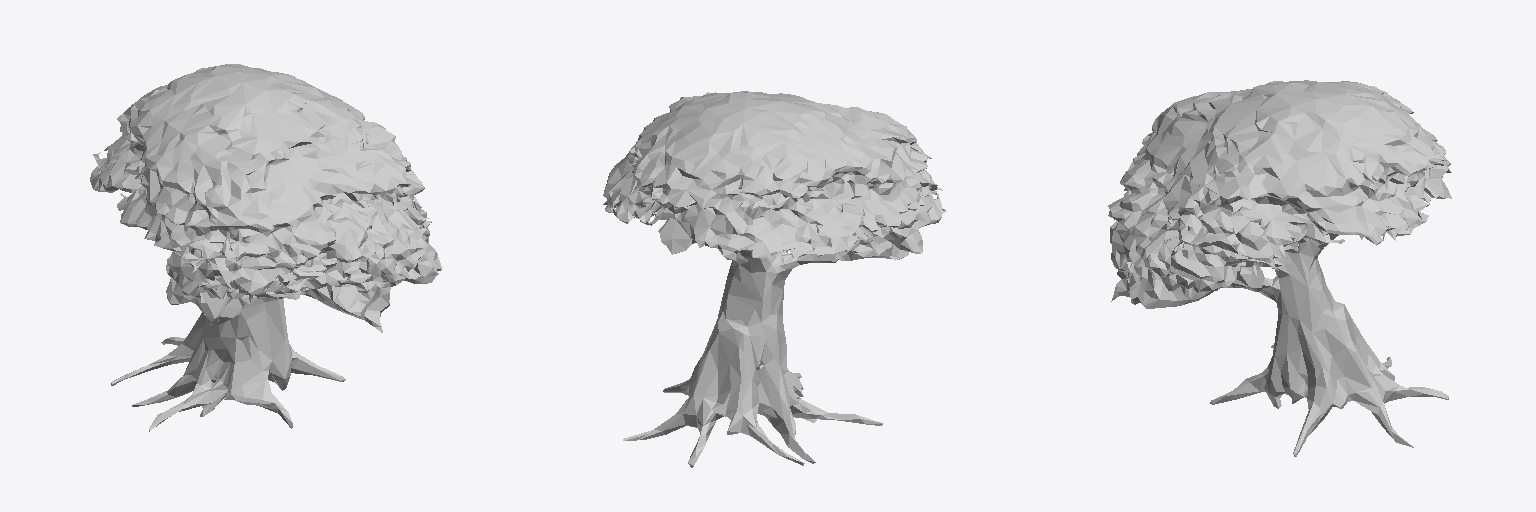
The model's file is fe6535b83ee9_a_large_alien_tree_.obj.
The picture shows the model from 3 angles: view 1: azimuth 30°, elevation 25°; view 2: azimuth 150°, elevation 25°; view 3: azimuth 270°, elevation 25°; orthographic projection.
Visible parts, largest first — view 1: mesh; view 2: mesh; view 3: mesh.
Boxes of the visible parts, x1=… form: mesh: x1=90, y1=64, x2=442, y2=431; mesh: x1=603, y1=91, x2=946, y2=467; mesh: x1=1108, y1=80, x2=1451, y2=456.
Bounding box in the file's own units: 0.8772 × 1 × 0.9809.